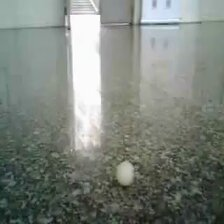w: (114, 158, 137, 188)
